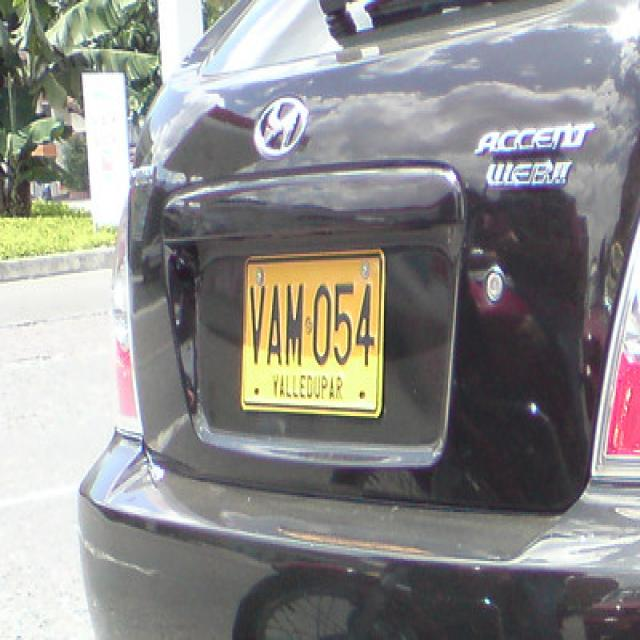placa_carro: (238, 245, 387, 417)
